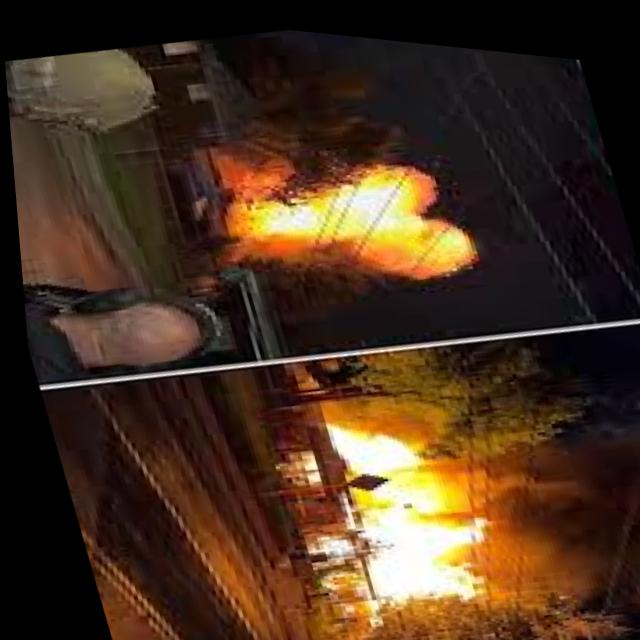Fire: (197, 102, 490, 317), (306, 402, 486, 621)
